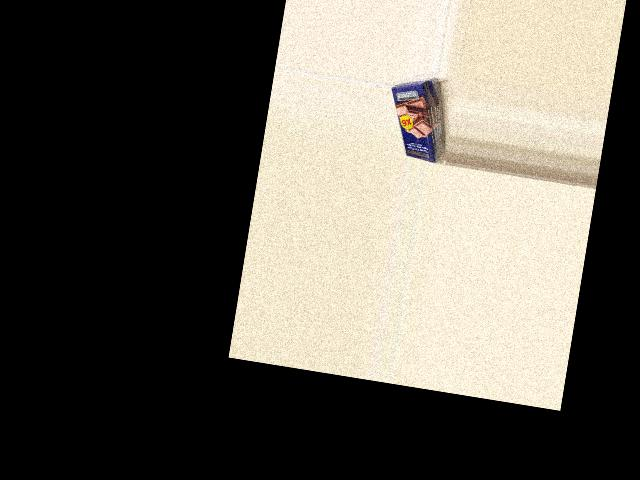chocolate: (379, 76, 452, 164)
